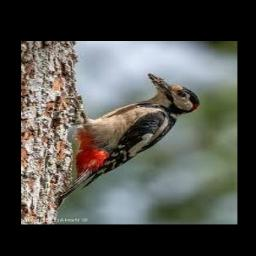Woodpecker: (55, 73, 199, 208)
